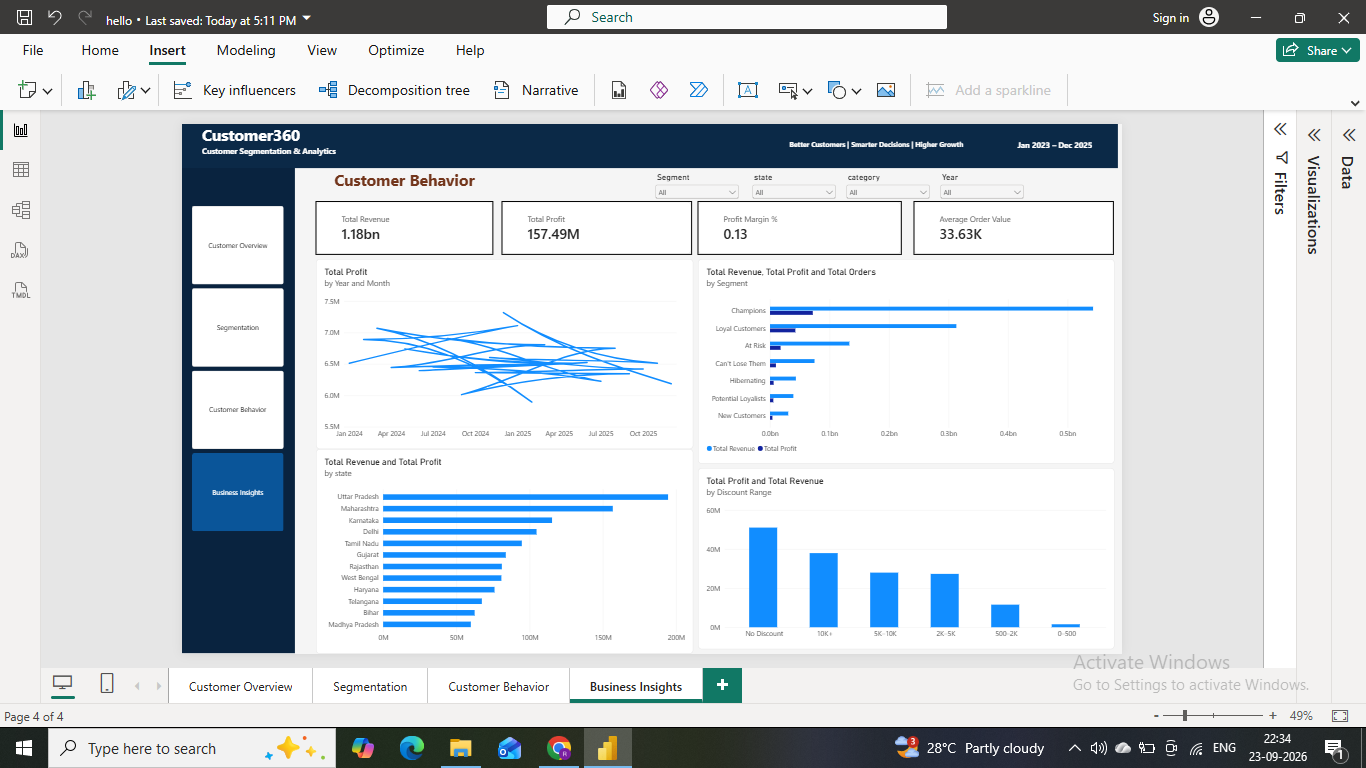

This screenshot's page, from the dashboard's own definition file:
{"tool":"powerbi","page":{"name":"Business Insights","canvas":[1920,1080],"ordinal":3},"visuals":[{"type":"shape","box":[0,0,1910,90],"z":0},{"type":"textbox","box":[40,0,382.5,120],"z":1},{"type":"textbox","box":[40.3,45.4,383,45.4],"z":2},{"type":"shape","box":[0,90,230,990],"z":3},{"type":"textbox","box":[847.5,32.5,747.5,57.5],"z":5},{"type":"textbox","box":[1632.5,32.5,225,57.5],"z":6},{"type":"textbox","box":[231.1,91.1,446.7,55.6],"z":7},{"type":"slicer","fields":{"Values":["customer360_db customer360.Segment"]},"box":[961.4,97.1,180,70],"z":8},{"type":"slicer","fields":{"Values":["customer360_db customers.state"]},"box":[1160,97.1,180,70],"z":9},{"type":"slicer","fields":{"Values":["customer360_db products.category"]},"box":[1350,97.1,180,70],"z":10},{"type":"slicer","fields":{"Values":["customer360_db customer360.signup_date.Variation.Date Hierarchy.Year"]},"box":[1542.9,97.1,180,70],"z":11},{"type":"cardVisual","fields":{"Data":["Measures (3).Total Revenue"]},"box":[272,158,364,110],"z":13},{"type":"cardVisual","fields":{"Data":["Measures (3).Total Profit"]},"box":[652,158,390,110],"z":14},{"type":"cardVisual","fields":{"Data":["Measures (3).Profit Margin %"]},"box":[1052,158,418,110],"z":15},{"type":"cardVisual","fields":{"Data":["Measures (3).Average Order Value"]},"box":[1492,158,410,110],"z":16},{"type":"lineChart","title":"Revenue & Profit Trend ","fields":{"Category":["customer360_db orders.order_date.Variation.Date Hierarchy.Year","customer360_db orders.order_date.Variation.Date Hierarchy.Month"],"Y":["Measures (3).Total Profit"]},"box":[272.5,275,770,387.5],"z":17},{"type":"clusteredBarChart","title":" Revenue vs Profit  by Segment ","fields":{"Category":["customer360_db customer360.Segment"],"Y":["Measures (3).Total Revenue","Measures (3).Total Profit"]},"box":[1052.5,275,850,417.5],"z":18},{"type":"clusteredBarChart","title":"Top 10 State by Revenue","fields":{"Category":["customer360_db customers.state"],"Y":["Measures (3).Total Revenue"]},"box":[272.5,662.5,770,417.5],"z":19},{"type":"clusteredColumnChart","title":"Discount vs Profit","fields":{"Category":["customer360_db orders.Discount Range"],"Y":["Measures (3).Total Profit"]},"box":[1052.5,702.5,850,370],"z":20},{"type":"pageNavigator","box":[21.3,168,187.1,665.4],"z":21}]}

Visuals, with their boxes on the page's 1920x1080 design canvas (x1, y1, x2, y2). These are canvas units, not pixel positions in the 1366x768 screenshot, which may show the page scaled, cropped or inside an application window:
shape: [0, 0, 1910, 90]
textbox: [40, 0, 422, 120]
textbox: [40, 45, 423, 91]
shape: [0, 90, 230, 1080]
textbox: [848, 32, 1595, 90]
textbox: [1632, 32, 1858, 90]
textbox: [231, 91, 678, 147]
slicer - customer360_db customer360.Segment: [961, 97, 1141, 167]
slicer - customer360_db customers.state: [1160, 97, 1340, 167]
slicer - customer360_db products.category: [1350, 97, 1530, 167]
slicer - customer360_db customer360.signup_date.Variation.Date Hierarchy.Year: [1543, 97, 1723, 167]
cardVisual - Measures (3).Total Revenue: [272, 158, 636, 268]
cardVisual - Measures (3).Total Profit: [652, 158, 1042, 268]
cardVisual - Measures (3).Profit Margin %: [1052, 158, 1470, 268]
cardVisual - Measures (3).Average Order Value: [1492, 158, 1902, 268]
"Revenue & Profit Trend " lineChart: [272, 275, 1042, 662]
" Revenue vs Profit  by Segment " clusteredBarChart: [1052, 275, 1902, 692]
"Top 10 State by Revenue" clusteredBarChart: [272, 662, 1042, 1080]
"Discount vs Profit" clusteredColumnChart: [1052, 702, 1902, 1072]
pageNavigator: [21, 168, 208, 833]
